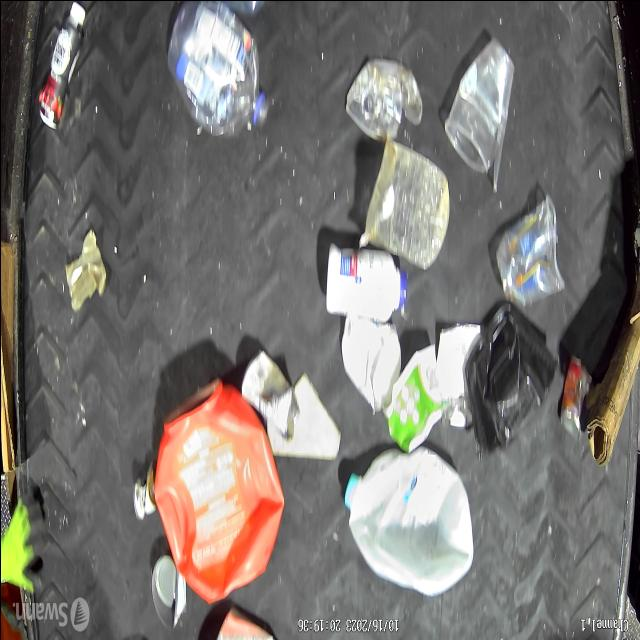can: (241, 342, 301, 446), (558, 348, 598, 442), (139, 548, 184, 631)
milk_jug: (341, 447, 475, 597)
non_white_jug: (149, 376, 285, 600)
plastic_bottle: (168, 5, 268, 139)
